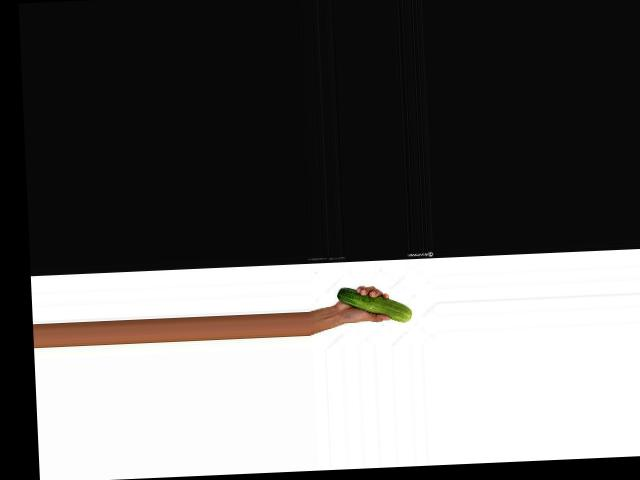cucumber: (336, 284, 411, 325)
